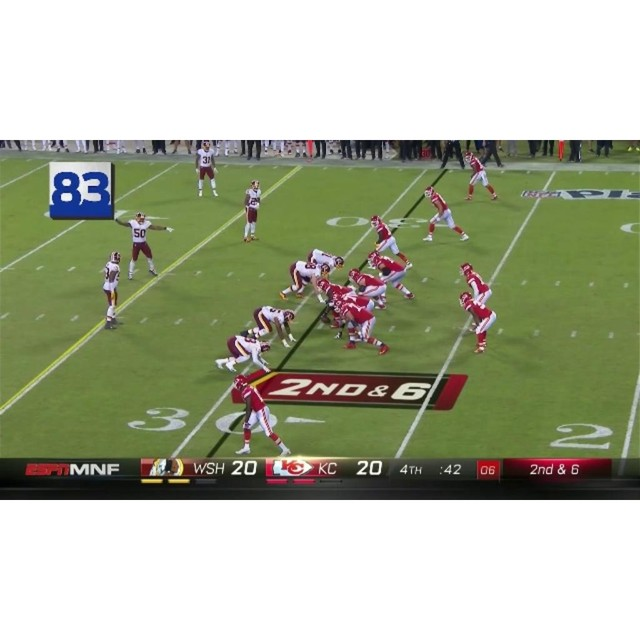american-football-player: (233, 376, 291, 456), (118, 210, 171, 281), (331, 297, 390, 356), (422, 185, 469, 242), (459, 292, 497, 356), (214, 332, 270, 374), (369, 215, 412, 269), (368, 251, 414, 301), (279, 259, 324, 301), (252, 305, 296, 347), (464, 150, 499, 202), (348, 267, 388, 308), (100, 251, 121, 329), (459, 262, 492, 306), (196, 140, 219, 198), (306, 248, 343, 281), (242, 182, 262, 243)
